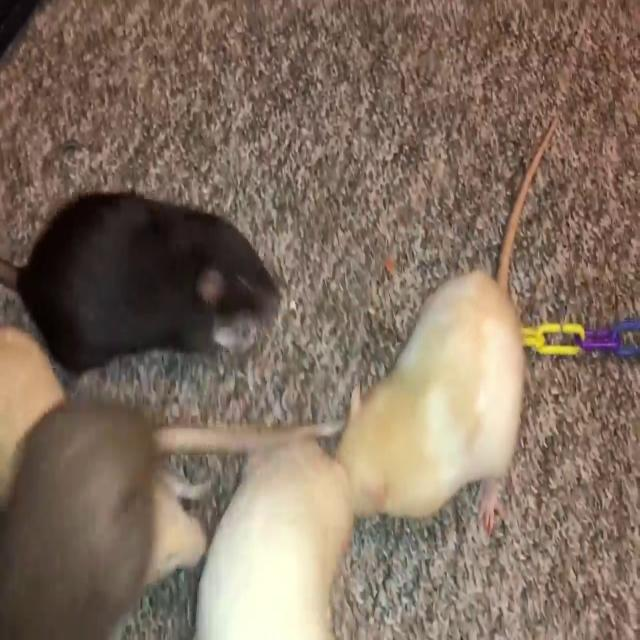rat: (345, 230, 526, 533), (18, 188, 282, 370), (4, 394, 197, 640)
